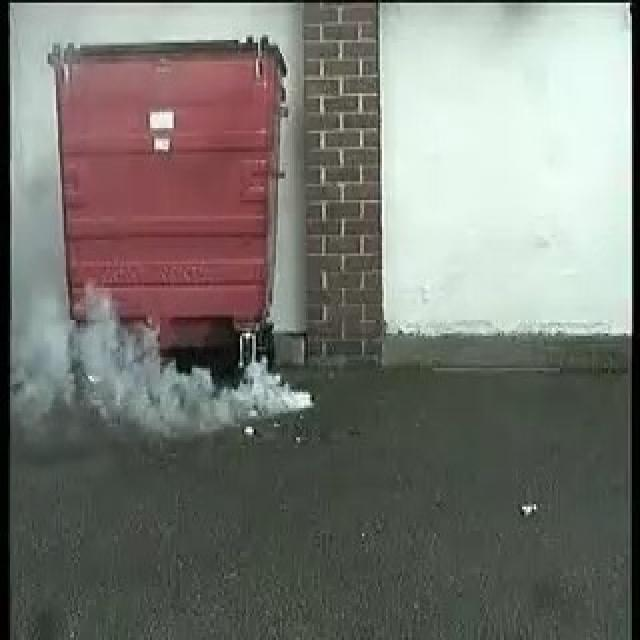smoke: (66, 290, 313, 424)
